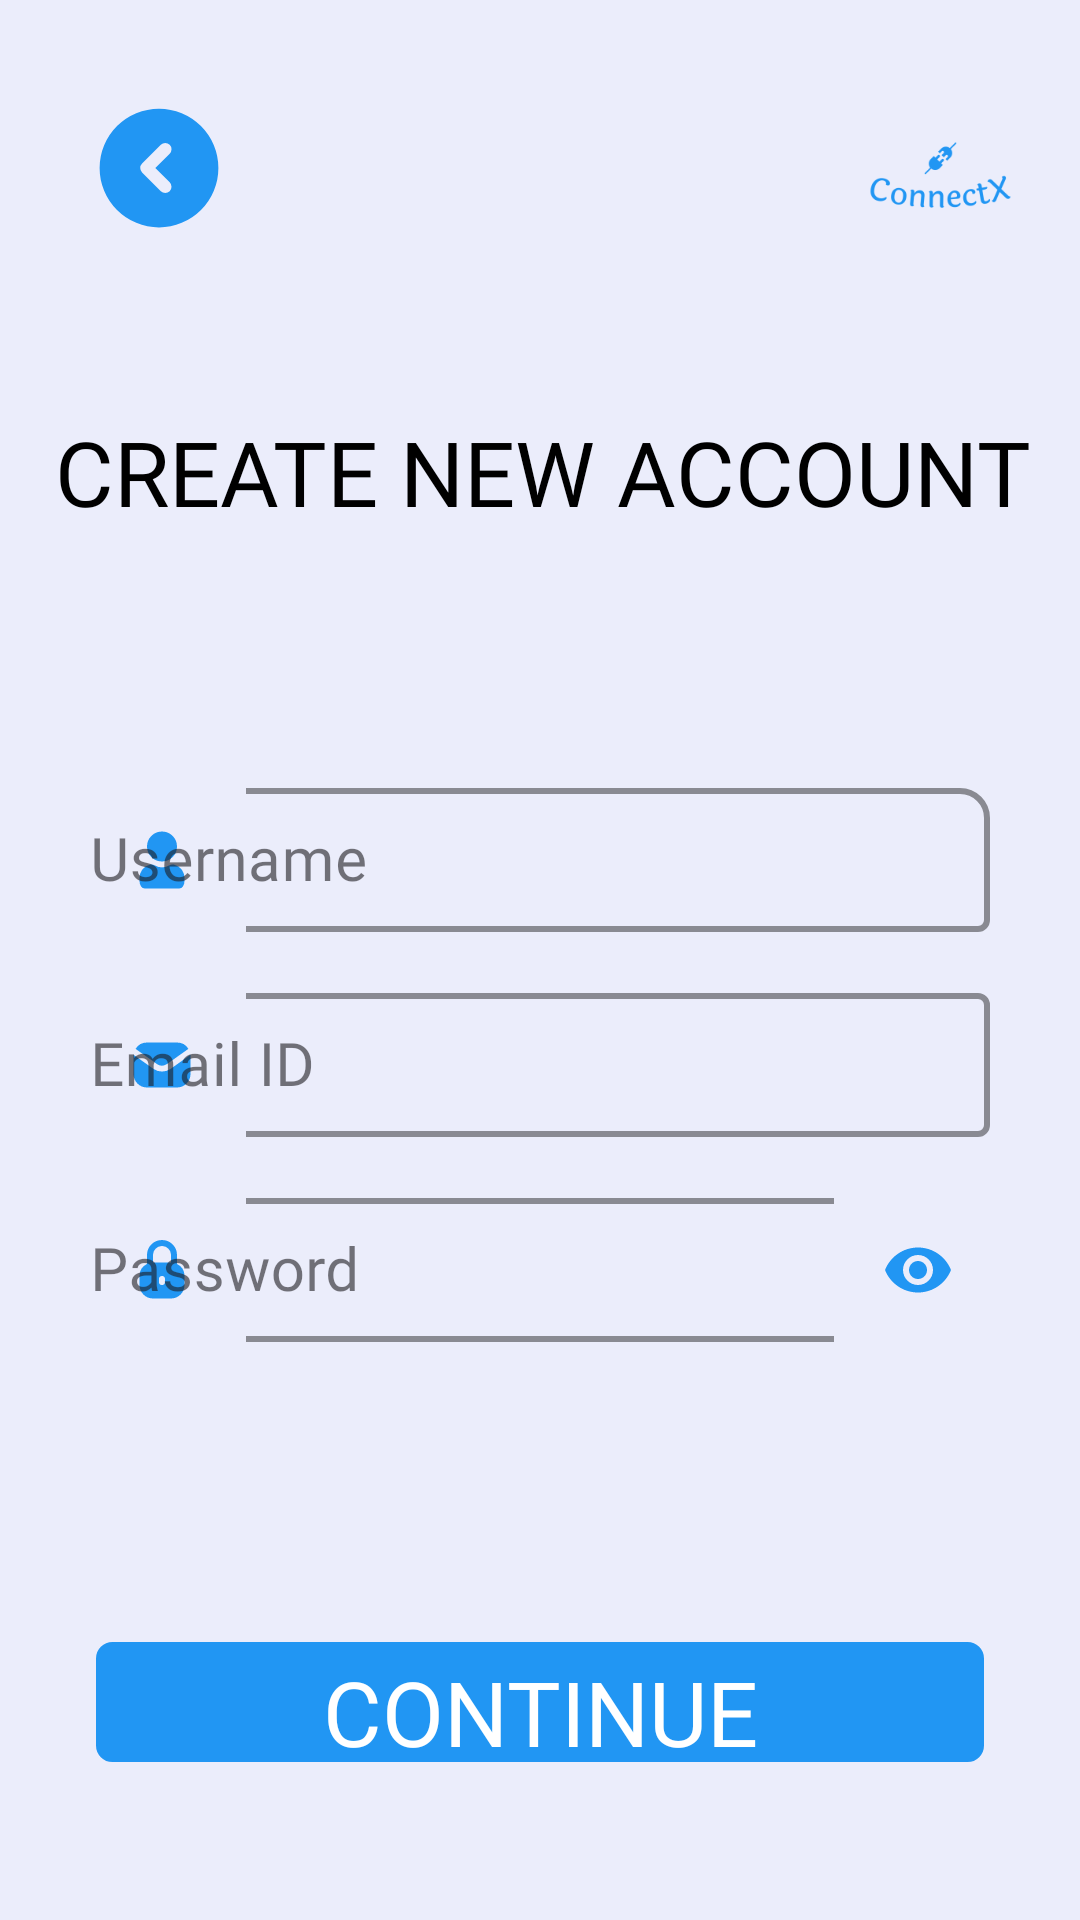

Icon bounding boxes for this 1080*1920 phone screenshot, format BBox(x1, y1, x2, y2):
backbutton: BBox(99, 108, 219, 228)
